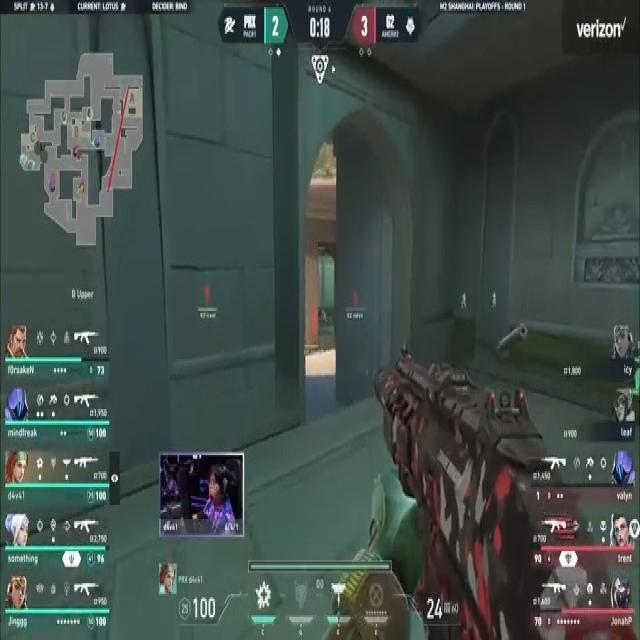ally behind wall: (459, 289, 468, 311), (490, 288, 497, 312)
